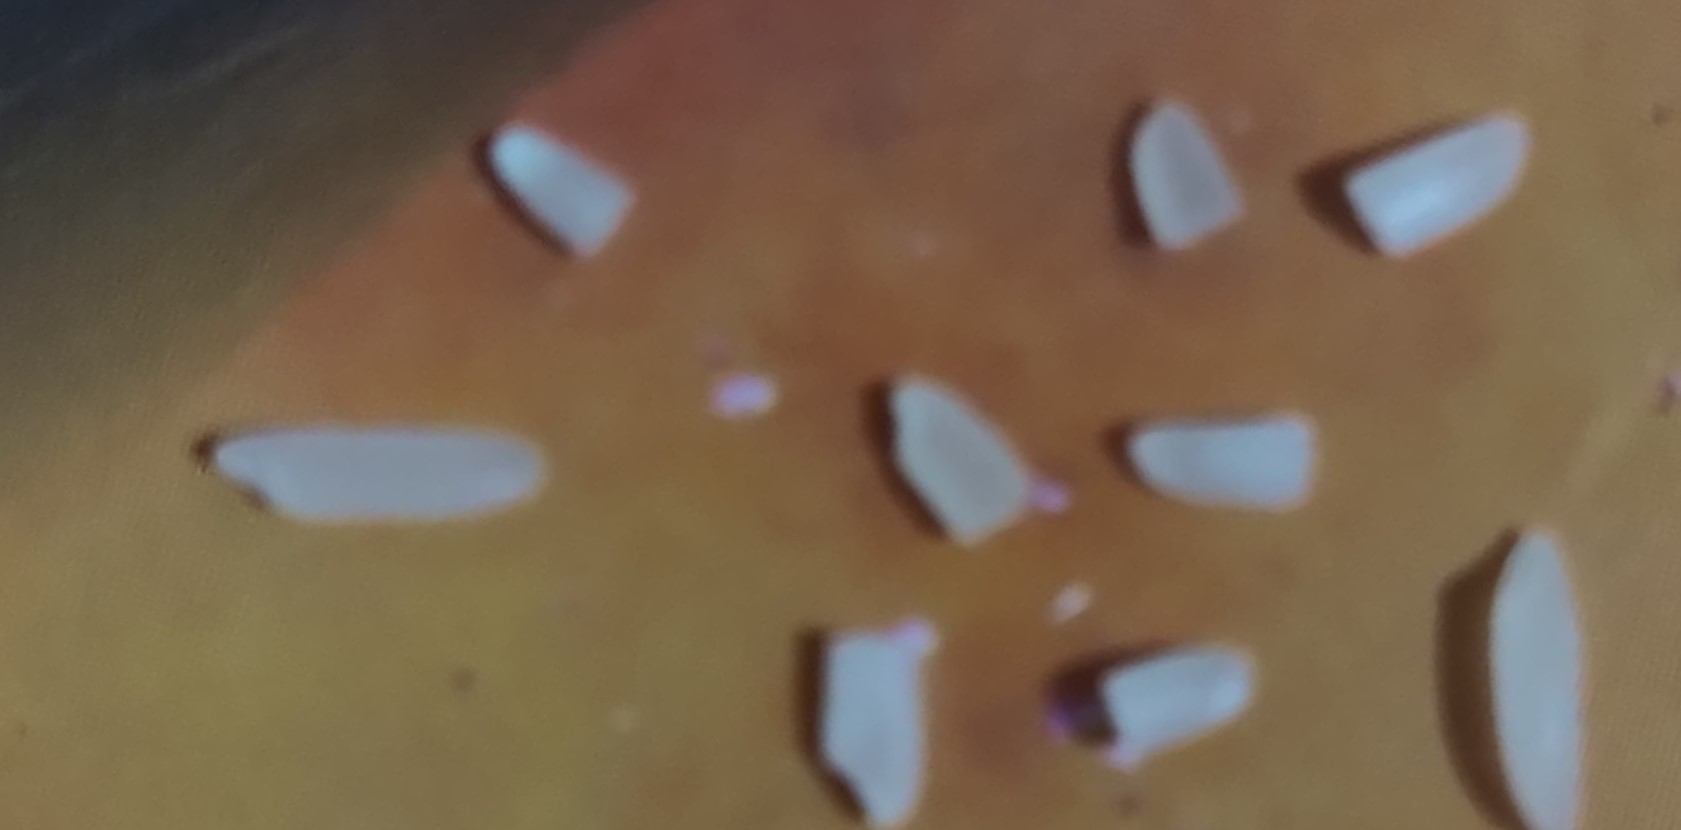broken_grain: (880, 357, 1039, 569), (1335, 104, 1527, 263), (809, 621, 947, 830), (484, 118, 637, 277), (1122, 410, 1322, 530), (1092, 631, 1262, 757), (1122, 92, 1246, 263)
complete_grain: (199, 413, 568, 540), (1474, 517, 1607, 830)
